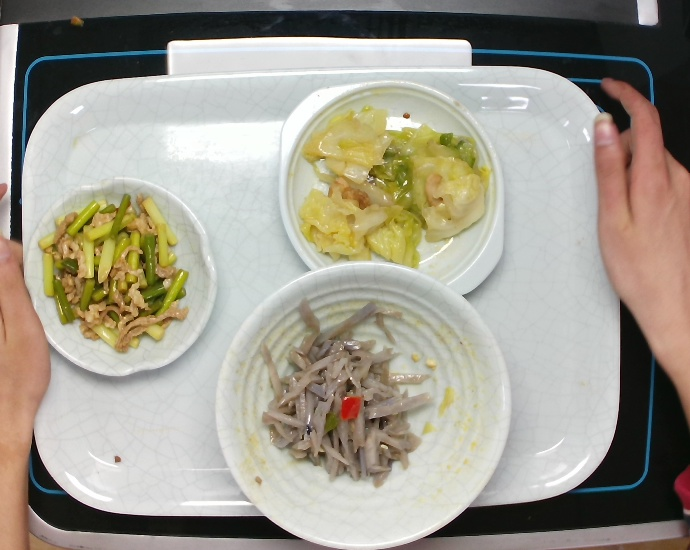JYsf-Ao_Yuan_Wan: (20, 172, 220, 380)
JYsf-Shuang_Er_Pan: (274, 76, 510, 300)
JYsf-Xiao_Tang_Wan: (212, 259, 515, 550)
